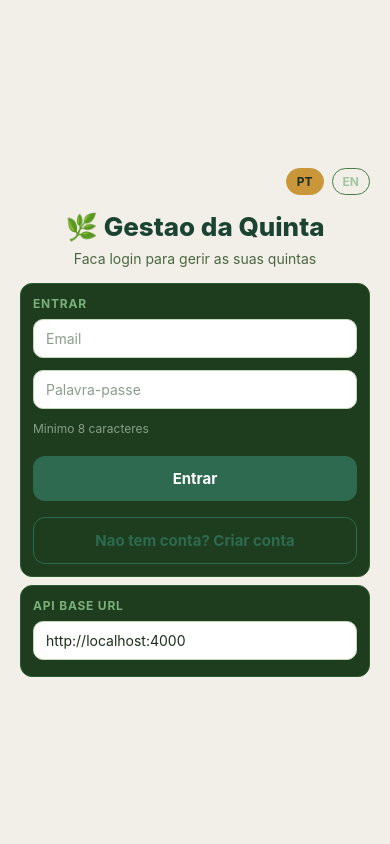
it: Onboarding (no farms) › shows the onboarding welcome and hides the main tabs when the user has no farms
This screenshot has width=390, height=844.
Step 1. Type "owner@example.com" into the field with test id "login-email" → (195, 338), box x1=33 y1=318 x2=357 y2=358
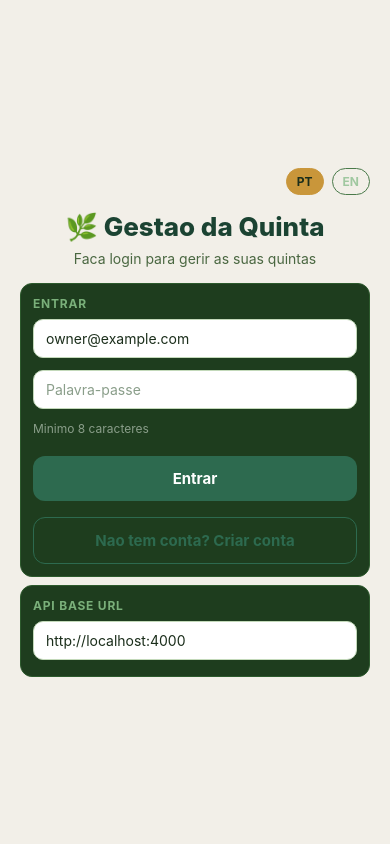
Step 2. Type "supersecret1" into the password field with test id "login-password" → (195, 389), box x1=33 y1=370 x2=357 y2=408
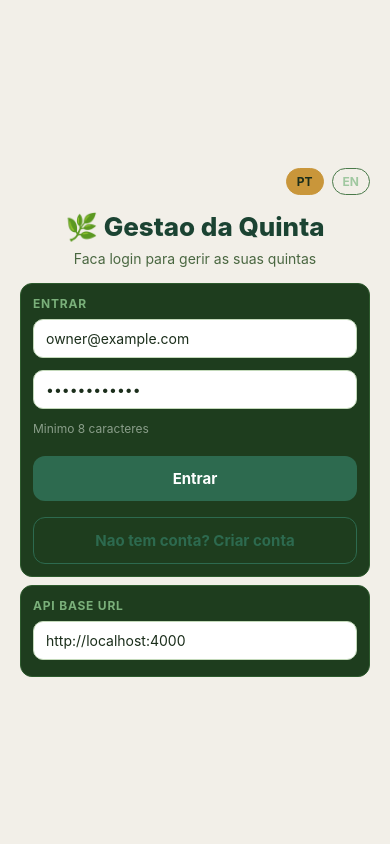
Step 3. Click the element with test id "login-submit" → click(195, 478), box x1=33 y1=456 x2=357 y2=500
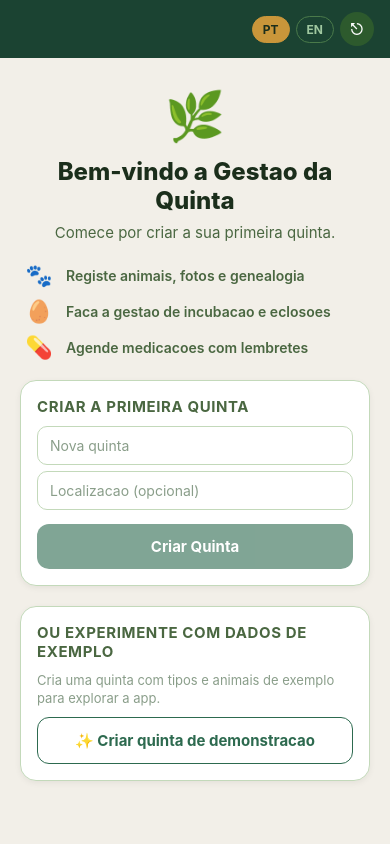
Expected: the text "Bem-vindo a Gestao da Quinta" is shown, x1=58 y1=157 x2=338 y2=215
